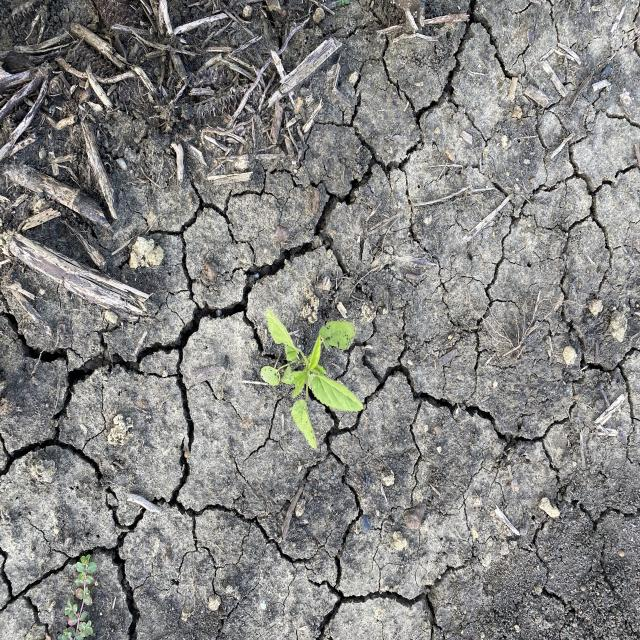PricklySida: (258, 304, 366, 453)
SpottedSpurge: (58, 553, 96, 639)
